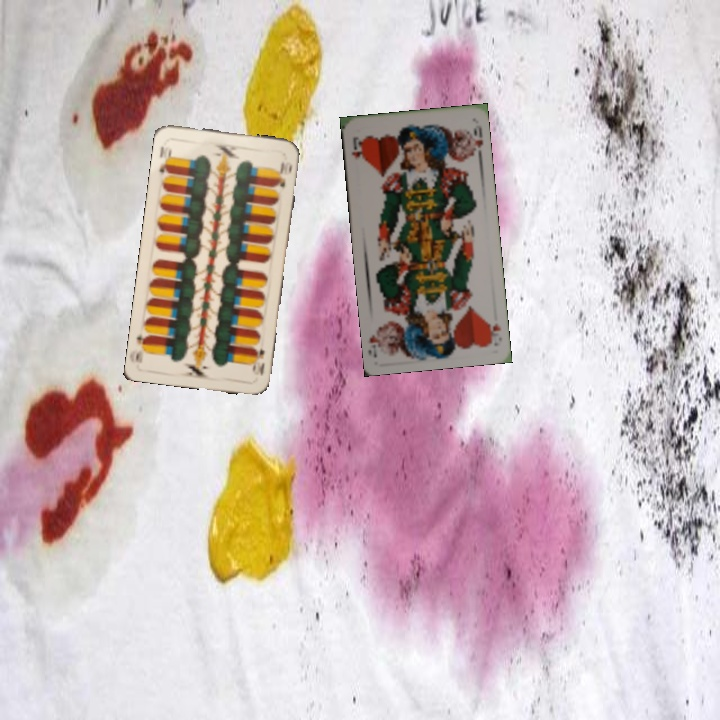E10: (249, 343, 267, 378), (155, 145, 174, 176)
HO: (484, 317, 504, 347), (348, 133, 367, 164)
